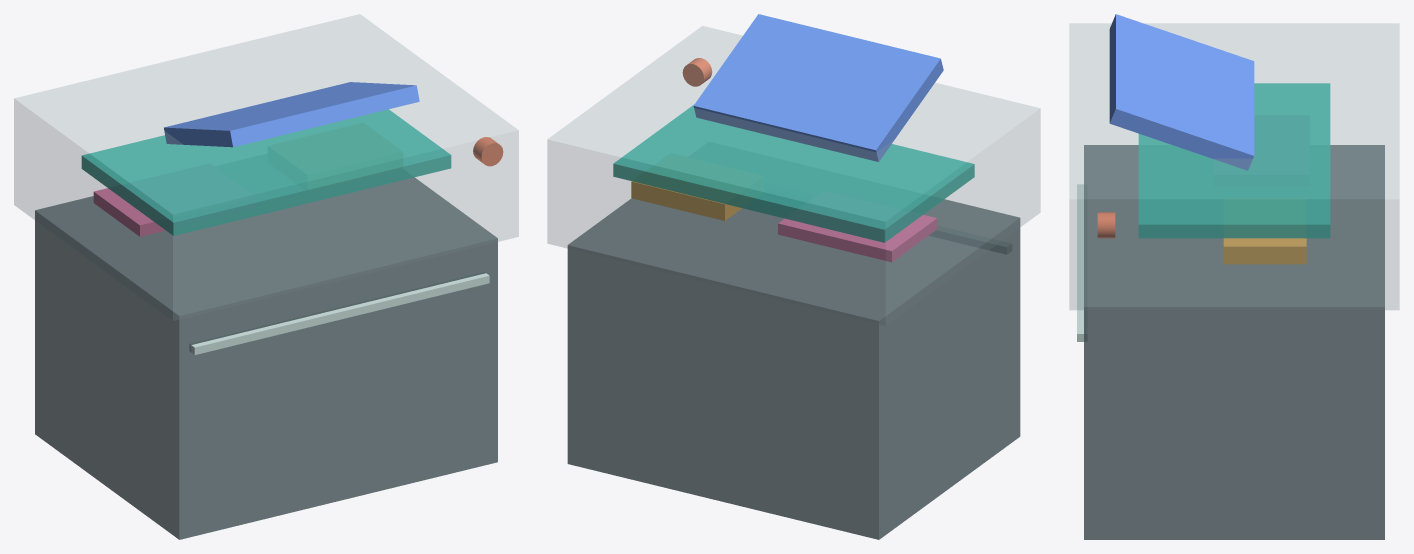
The model's file is orthographic-pilot.glb.
The picture shows the model from 3 angles, left to right: view 1: azimuth 30°, elevation 25°; view 2: azimuth 150°, elevation 25°; view 3: azimuth 270°, elevation 25°; orthographic projection. The views are drawn at different scales.
Visible parts, largest first — view 1: Ballot_Container, DS200_Shell, Scanner_Path, Display_Assembly, Tote_Bin_Gasket, Scanner_Board, Seal_Area; view 2: Ballot_Container, DS200_Shell, Scanner_Path, Display_Assembly, Scanner_Board, Processor_Module, Seal_Area; view 3: Ballot_Container, DS200_Shell, Scanner_Path, Display_Assembly, Processor_Module, Tote_Bin_Gasket, Seal_Area.
Part boxes in pixels (box(x1,y1,x2,y2)): Ballot_Container: box(35, 177, 497, 539); DS200_Shell: box(14, 14, 518, 320); Scanner_Path: box(81, 109, 451, 235); Display_Assembly: box(164, 82, 419, 147); Tote_Bin_Gasket: box(190, 272, 489, 354); Scanner_Board: box(93, 188, 165, 236); Seal_Area: box(473, 137, 503, 166); Ballot_Container: box(567, 198, 1020, 539); DS200_Shell: box(547, 26, 1040, 325); Scanner_Path: box(613, 105, 974, 242); Display_Assembly: box(693, 14, 943, 161); Scanner_Board: box(778, 215, 937, 262); Processor_Module: box(631, 181, 741, 220); Seal_Area: box(682, 58, 712, 86); Ballot_Container: box(1084, 145, 1384, 539); DS200_Shell: box(1069, 23, 1399, 309); Scanner_Path: box(1138, 83, 1330, 238); Display_Assembly: box(1109, 14, 1254, 170); Processor_Module: box(1223, 238, 1306, 264); Tote_Bin_Gasket: box(1077, 184, 1086, 341); Seal_Area: box(1097, 212, 1115, 238).
Size of the model in its own units: 3.8 by 4.01 by 3.02.
